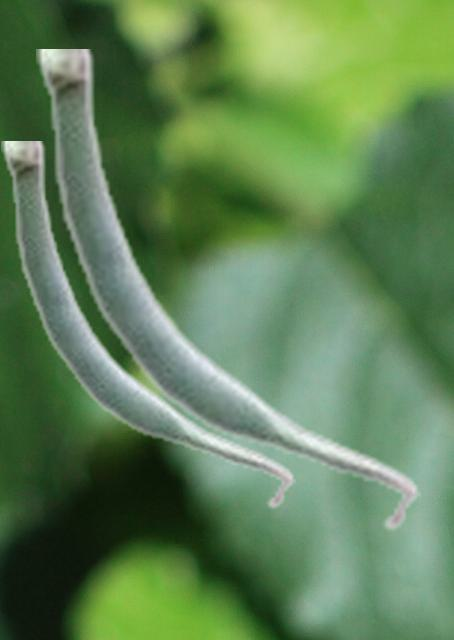french_bean: (36, 49, 419, 533), (1, 141, 294, 510)
